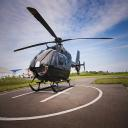helicopter: (15, 9, 115, 95)
